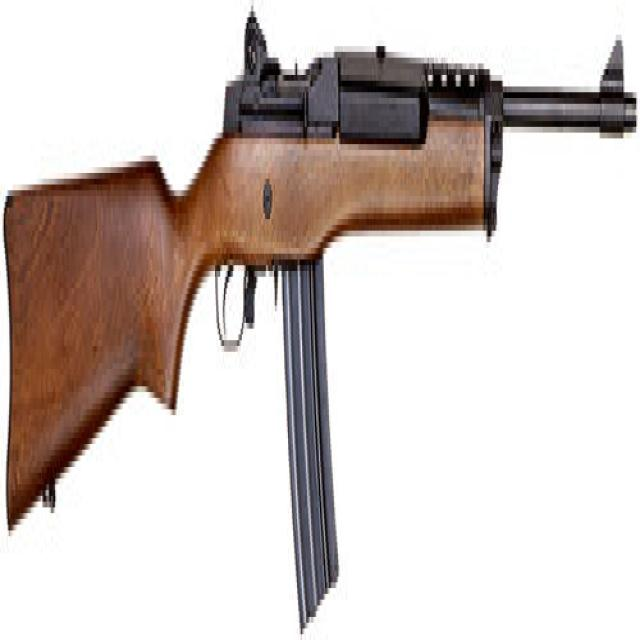rifle: (1, 1, 640, 637)
